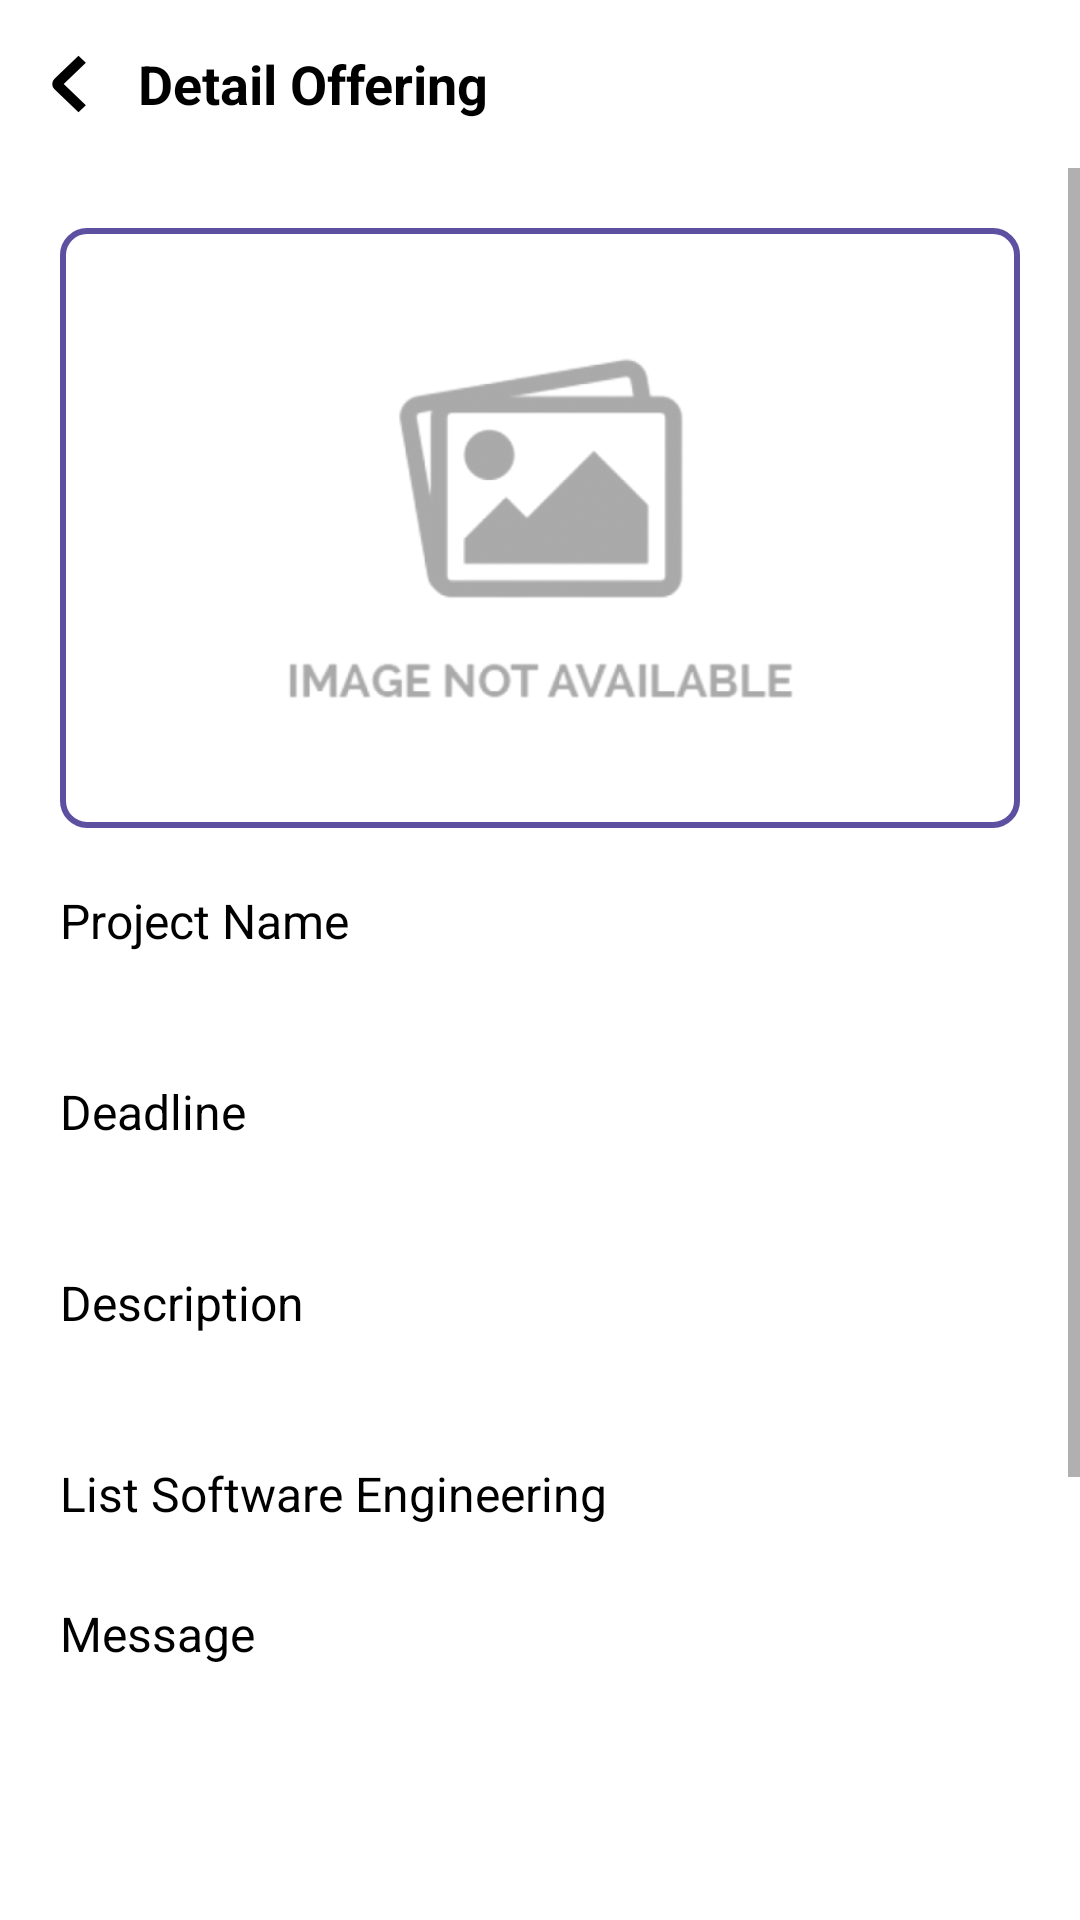

Point at icon controls on the screen. Image size 1080 x 1920, points as (x=x, y=y).
btnback: (x=69, y=84)
